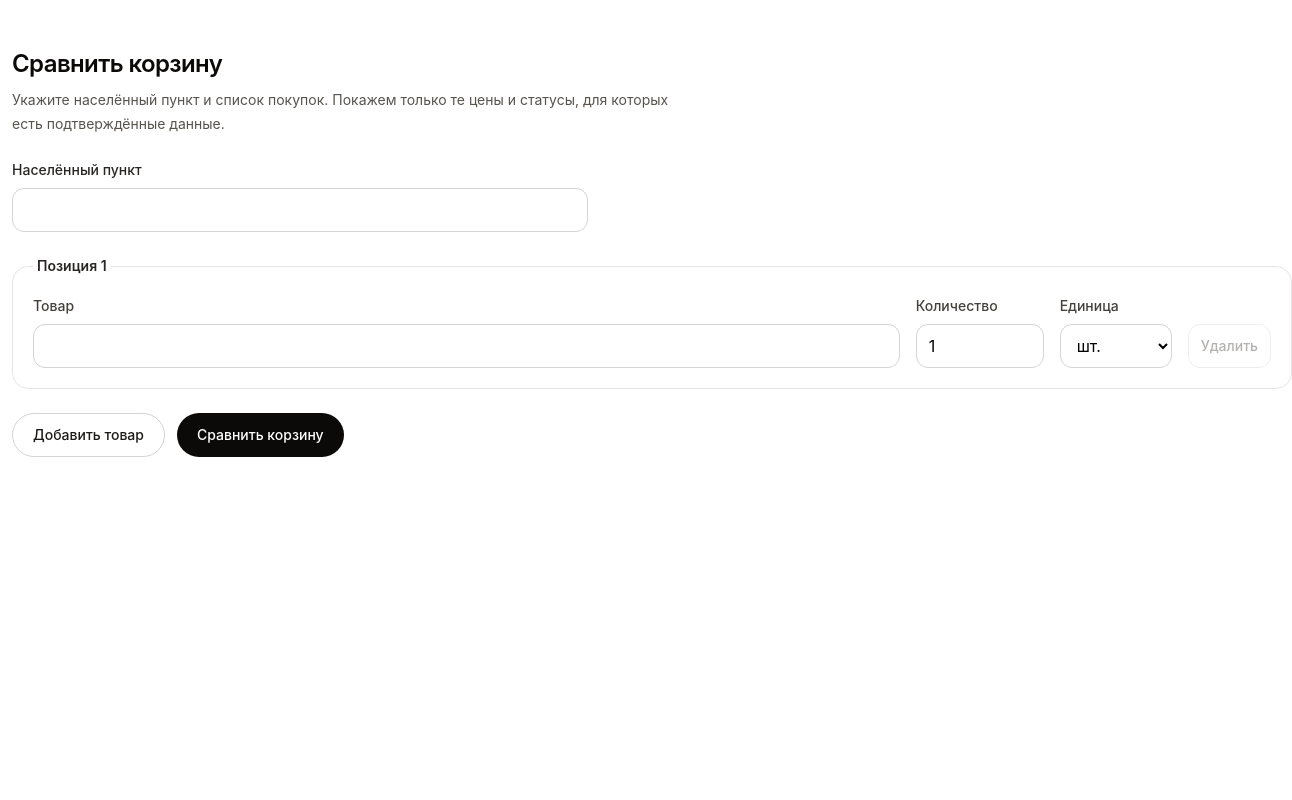
it: comparison preview form › supports adding and removing shopping rows without allowing an empty list
This screenshot has width=1292, height=800.
Expected: the number of fields labelled "Товар" is 1, [33,324,900,368]
Expected: the button with aria-label "Удалить товар" is disabled, [1188,324,1271,368]
What coordinates should you click on to do the following:
click the button "Добавить товар"
I would click on:
 (88, 435)
Its box is [12,413,165,457].
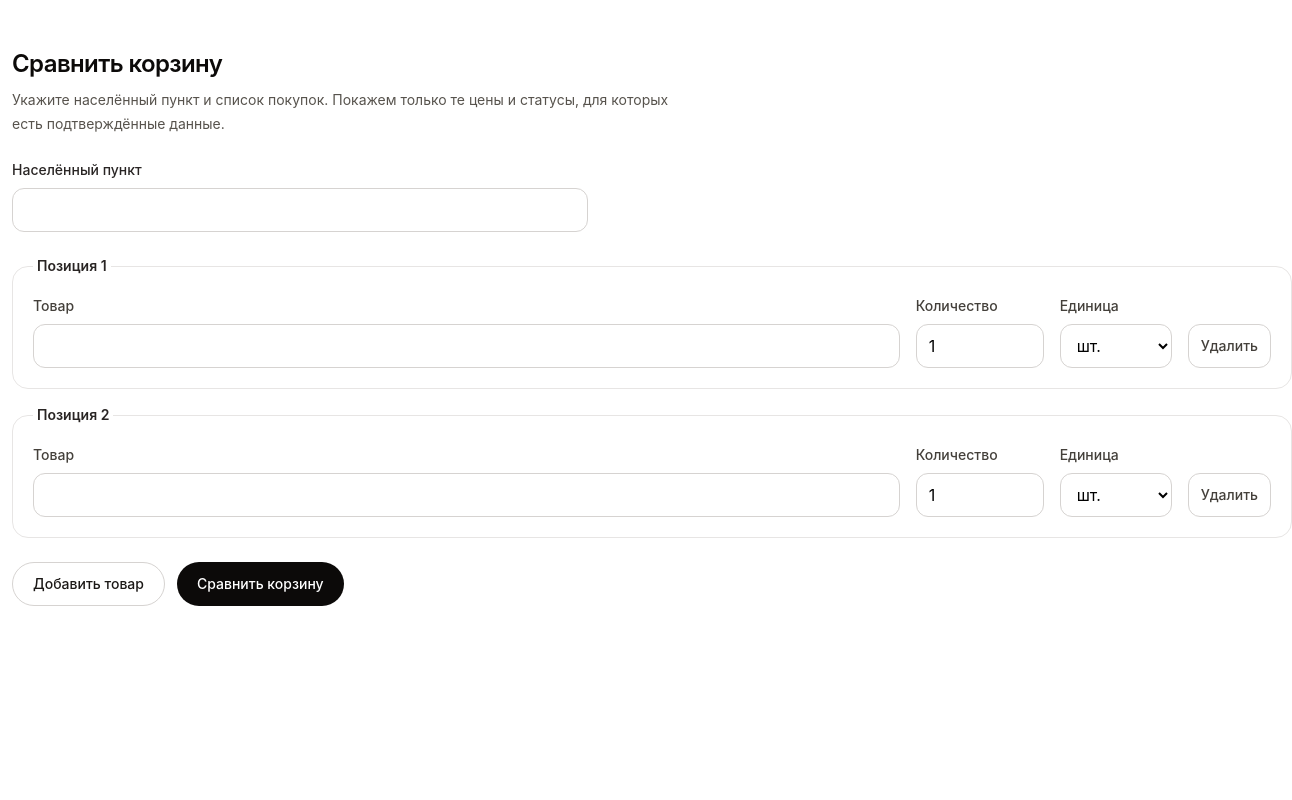
Now the number of fields labelled "Товар" is 2, box [33,324,900,368]; [33,473,900,517]
Now the button with aria-label "Удалить товар" is enabled, box [1188,324,1271,368]
What coordinates should you click on to do the following:
click the button with aria-label "Удалить товар"
I would click on:
 (1229, 495)
Its box is [1188,473,1271,517].
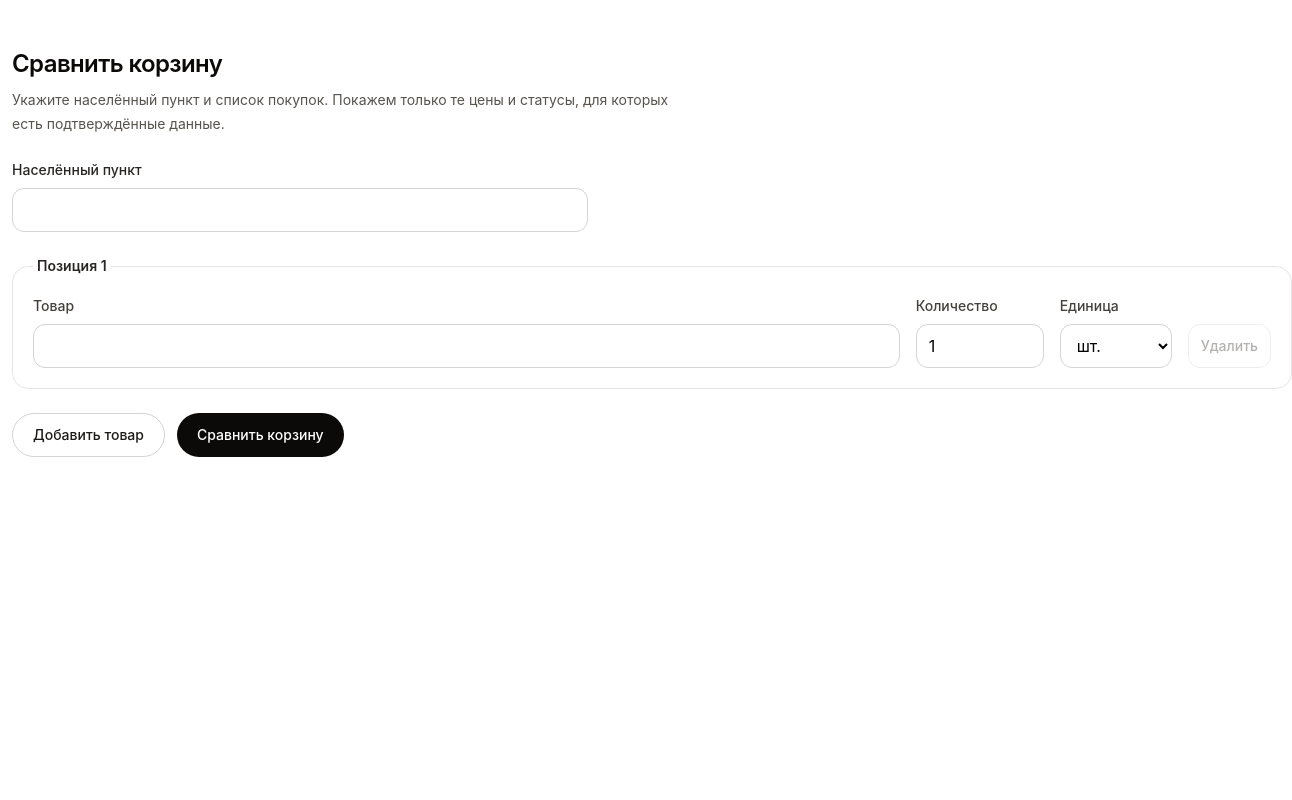
Now the number of fields labelled "Товар" is 1, box [33,324,900,368]
Now the button with aria-label "Удалить товар" is disabled, box [1188,324,1271,368]
